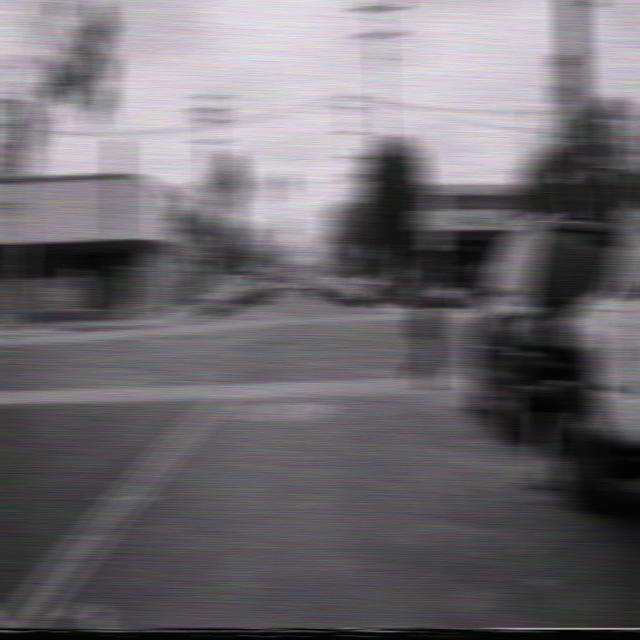stop_sign: (588, 93, 632, 169)
